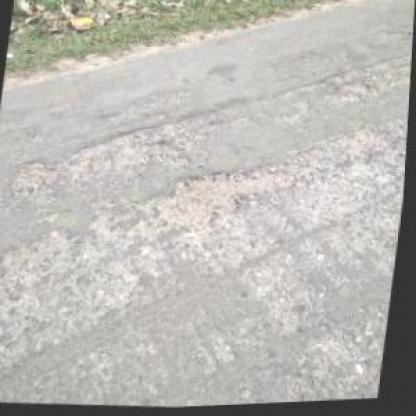pothole: (158, 157, 304, 233), (64, 117, 187, 183), (11, 160, 54, 200)
